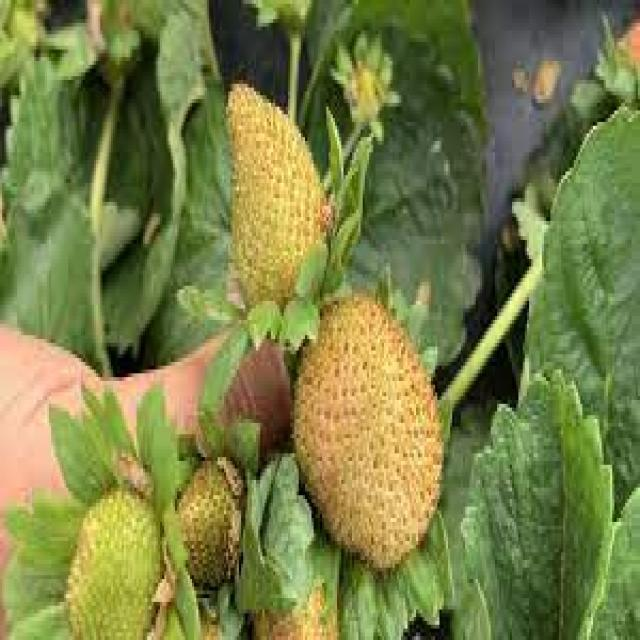Podredumbre de cuero: (288, 303, 454, 573), (204, 75, 320, 322)
